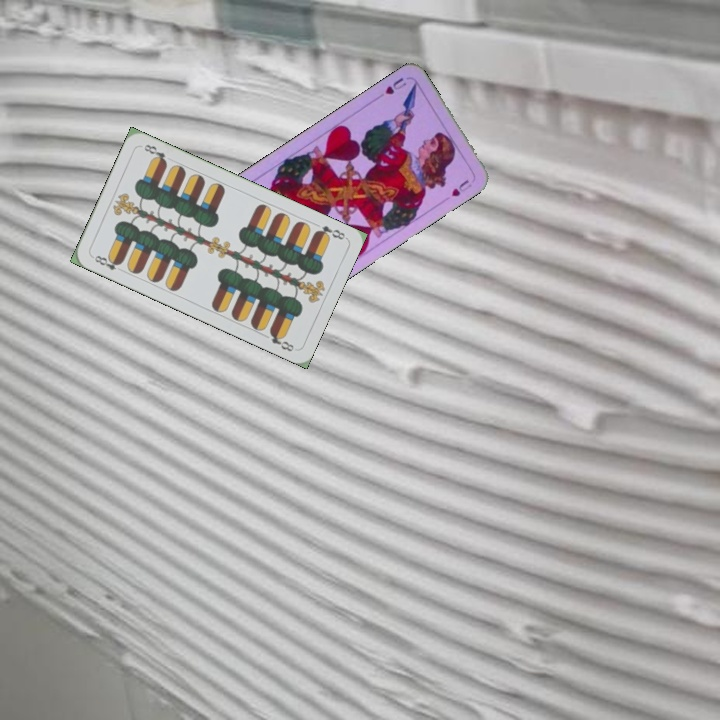E8: (88, 251, 125, 273), (311, 221, 348, 242)
HU: (381, 73, 409, 97)
